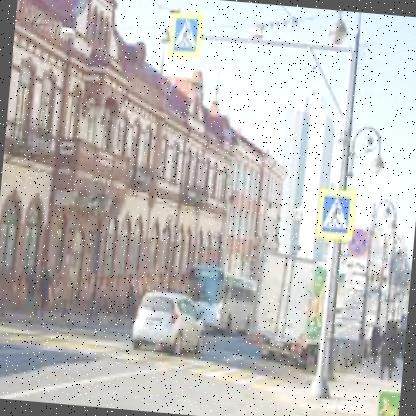crosswalk: (320, 194, 350, 234), (172, 16, 196, 50)
